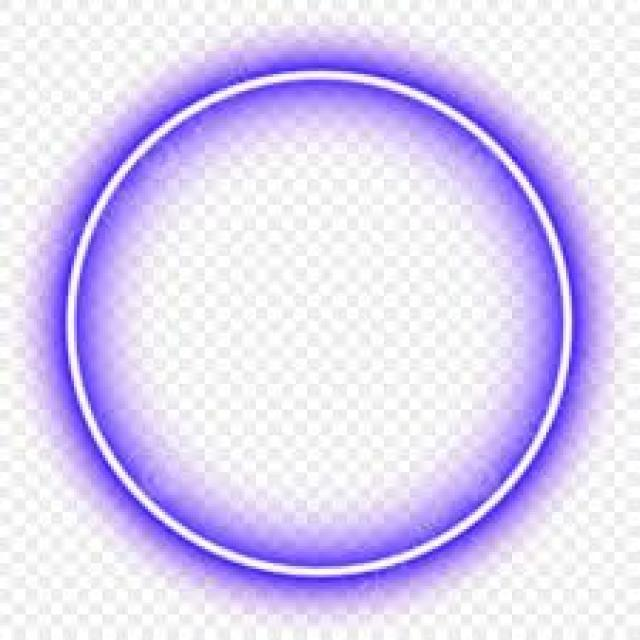Circle: (62, 50, 575, 577)
